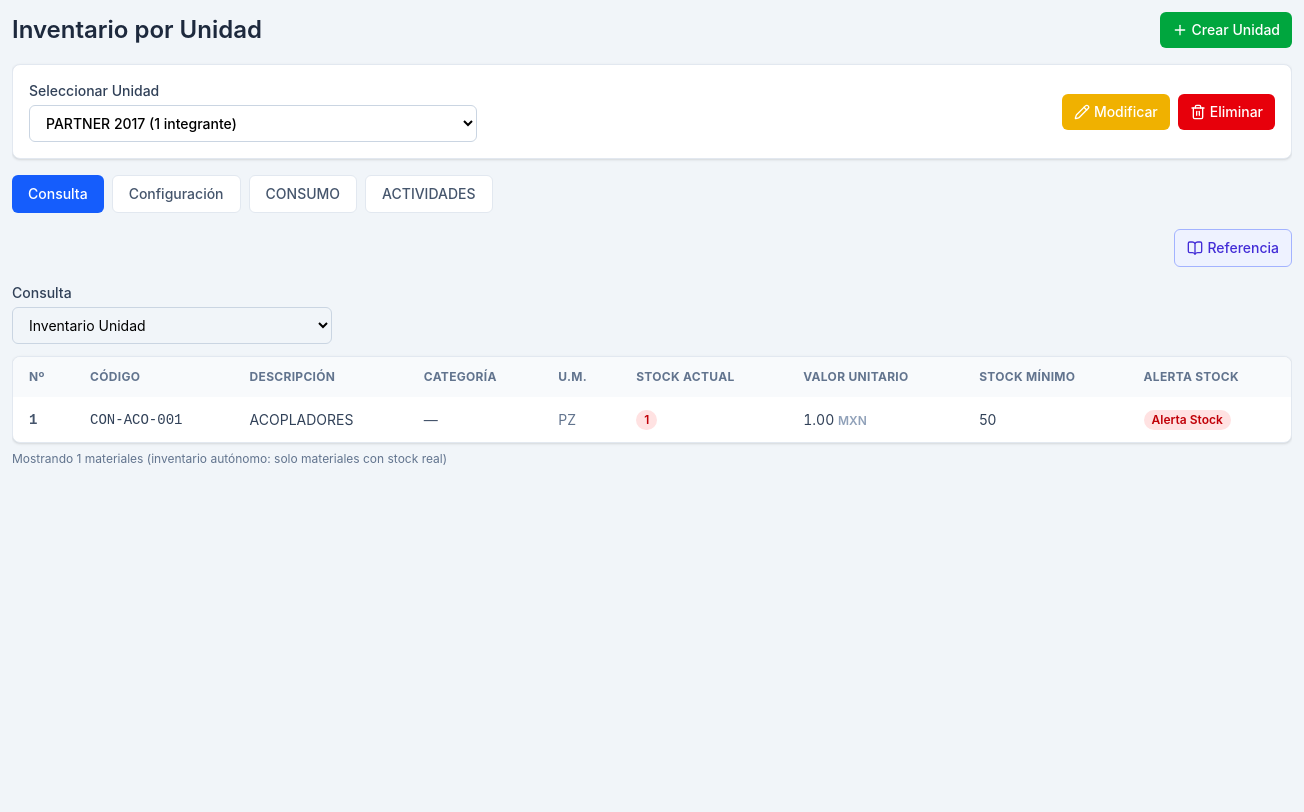
Test: Consulta SOLO LECTURA (REQ-REF-003) › el panel no ofrece acciones de escritura y solo lista la Referencia
Click the button "Referencia". click: (1233, 248)
box: 1174,229 -> 1292,267
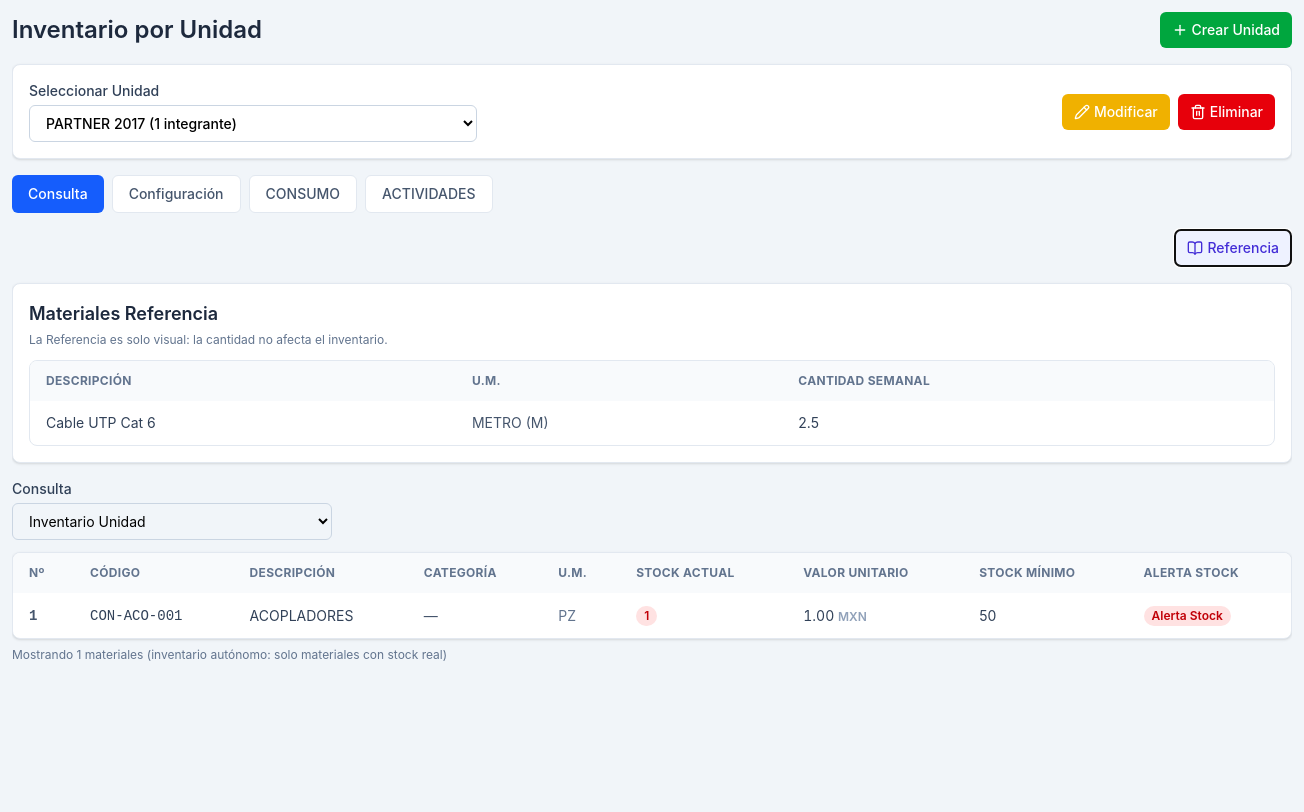
Expected: the text "Cable UTP Cat 6" is shown, 30,401 -> 456,445
